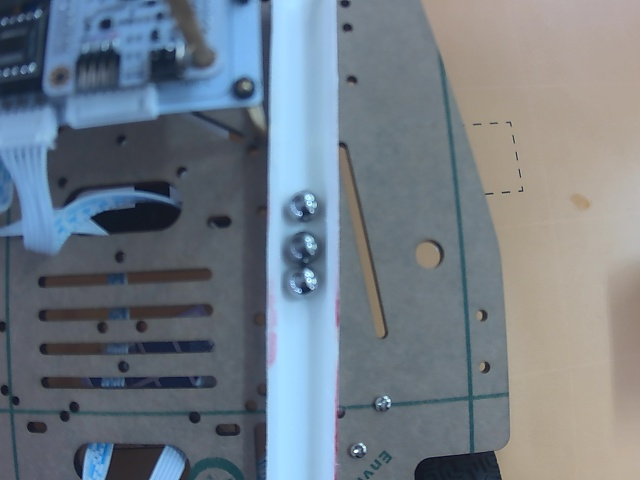steelball: (288, 232, 320, 262), (287, 268, 317, 297), (288, 193, 318, 219)
